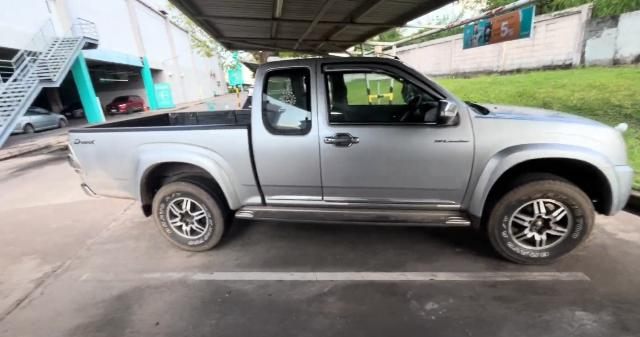pickup-truck: (68, 56, 630, 270)
